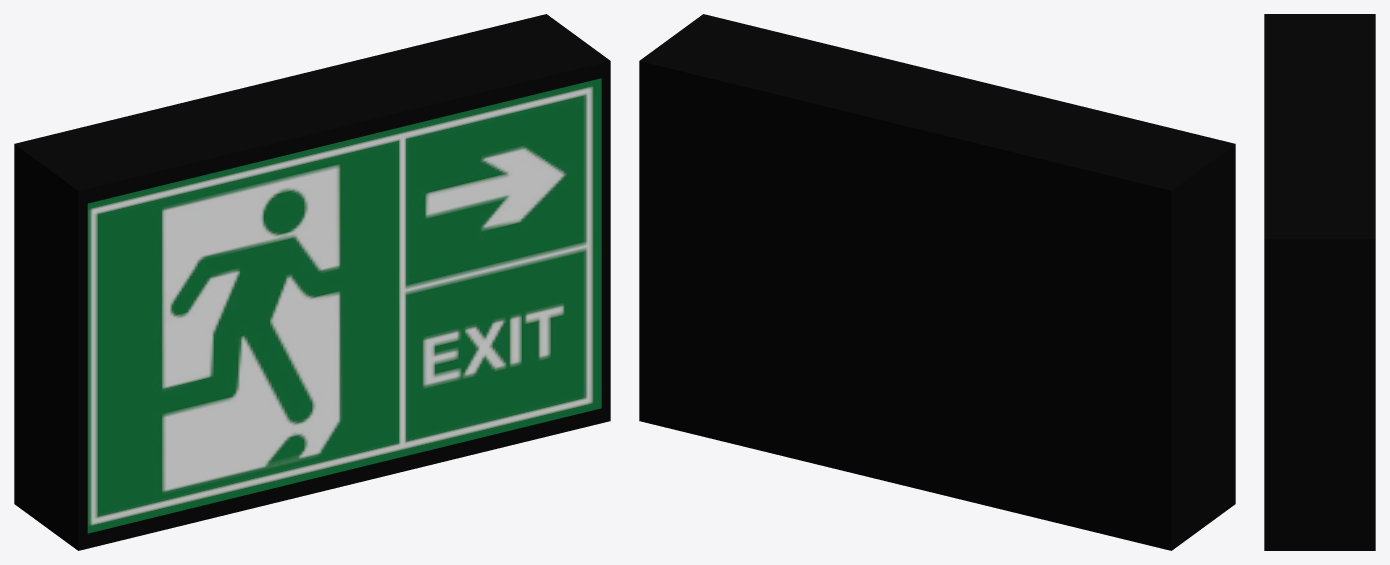
File: exitThisway.fbx
3 renders of one model, left to right at view 1: azimuth 30°, elevation 25°; view 2: azimuth 150°, elevation 25°; view 3: azimuth 270°, elevation 25°, orthographic. The views are drawn at different scales.
Parts seen in each view (by area): view 1: Cube; view 2: Cube; view 3: Cube.
Boxes of the visible parts, x1,y1,x2,y2 form: Cube: [14, 14, 610, 550]; Cube: [639, 14, 1235, 550]; Cube: [1264, 14, 1375, 550].
Bounding box in the file's own units: 173 × 112 × 36.18.
